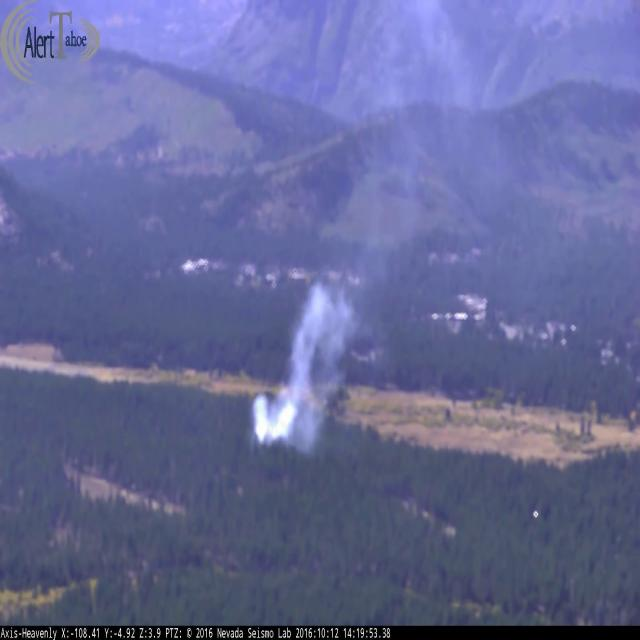smoke: (236, 50, 507, 464)
